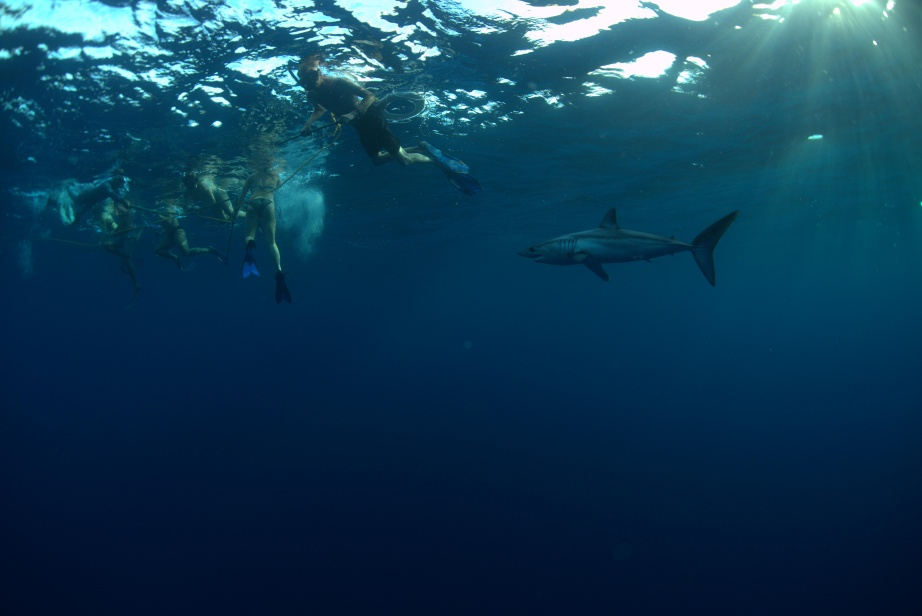Mako: (509, 195, 747, 301)
